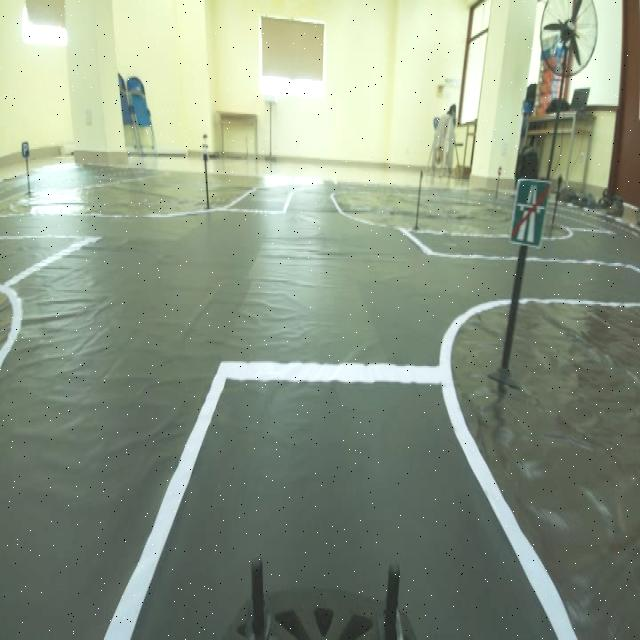highway_exit: (509, 162, 556, 274)
